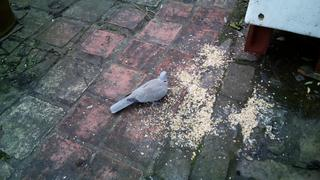collared dove: (110, 71, 168, 114)
